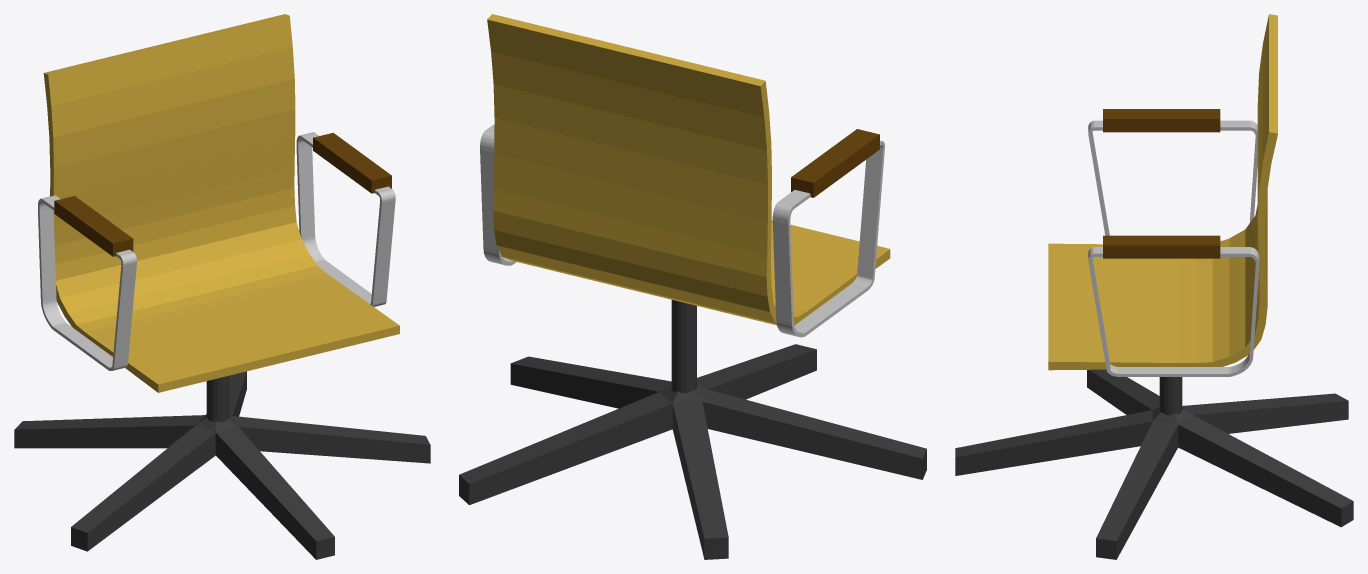
The model's file is 413_meeting_chair_visual.dae.
The picture shows the model from 3 angles, left to right: view 1: azimuth 30°, elevation 25°; view 2: azimuth 150°, elevation 25°; view 3: azimuth 270°, elevation 25°; orthographic projection. The views are drawn at different scales.
Parts seen in each view (by area): view 1: Cylinder, Cube_001, Cube_005, Cube_004; view 2: Cylinder, Cube_001, Cube_005, Cube_004; view 3: Cylinder, Cube_001, Cube_004, Cube_005.
Boxes of the visible parts, <box> form: Cylinder: <box>43,14,399,392</box>; Cube_001: <box>14,371,430,559</box>; Cube_005: <box>38,132,395,370</box>; Cube_004: <box>54,132,391,256</box>; Cylinder: <box>487,14,890,325</box>; Cube_001: <box>459,300,926,559</box>; Cube_005: <box>480,124,884,337</box>; Cube_004: <box>791,129,879,197</box>; Cylinder: <box>1048,14,1277,370</box>; Cube_001: <box>955,369,1353,559</box>; Cube_004: <box>1103,109,1220,258</box>; Cube_005: <box>1088,120,1259,376</box>.
Size of the model in its own units: 70.05 by 67.09 by 74.06.
